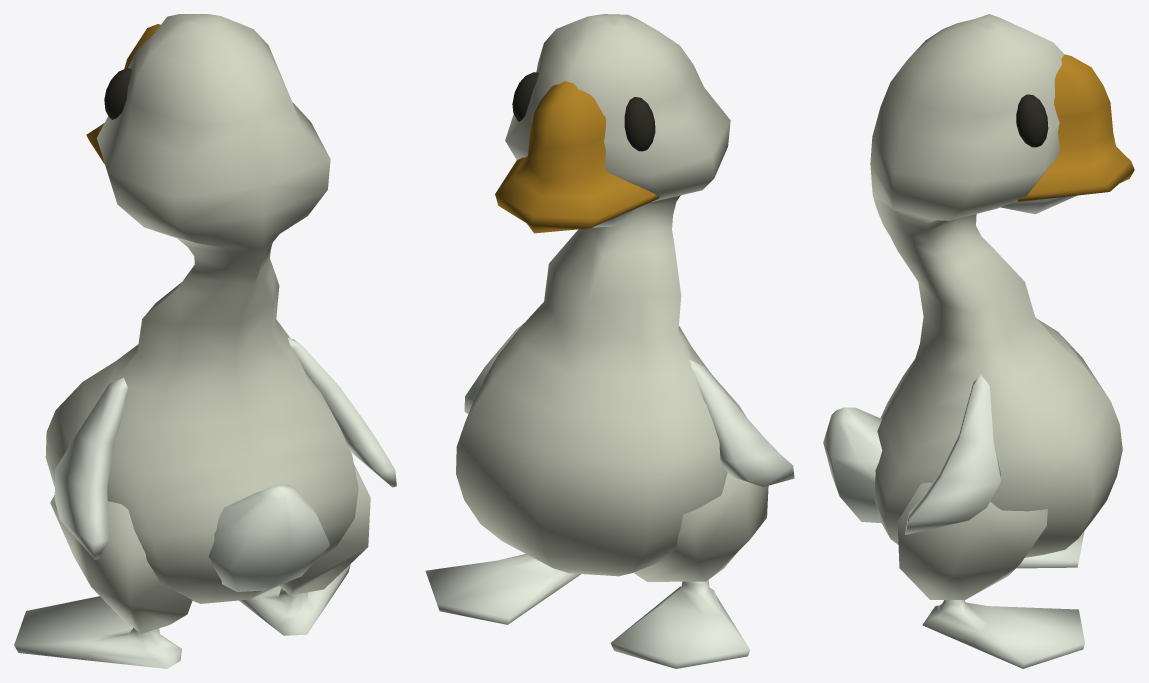
Rendered from GooseJonas.fbx.
3 renders of one model, left to right at view 1: azimuth 30°, elevation 25°; view 2: azimuth 150°, elevation 25°; view 3: azimuth 270°, elevation 25°, orthographic. The views are drawn at different scales.
Parts seen in each view (by area): view 1: Body, Tail, footL, WingL, WingR, FootR; view 2: Body, footL, FootR, WingL, WingR; view 3: Body, FootR, WingR, Tail, footL, Plane.011.
Boxes of the visible parts, x1=… form: Body: x1=45, y1=14, x2=370, y2=633; Tail: x1=208, y1=484, x2=329, y2=591; footL: x1=14, y1=596, x2=181, y2=668; WingL: x1=54, y1=377, x2=127, y2=559; WingR: x1=288, y1=337, x2=396, y2=487; FootR: x1=239, y1=564, x2=350, y2=635; Body: x1=456, y1=14, x2=768, y2=581; footL: x1=610, y1=580, x2=750, y2=668; FootR: x1=425, y1=554, x2=580, y2=624; WingL: x1=689, y1=359, x2=794, y2=486; WingR: x1=464, y1=323, x2=523, y2=413; Body: x1=870, y1=14, x2=1134, y2=599; FootR: x1=922, y1=600, x2=1084, y2=668; WingR: x1=905, y1=375, x2=1000, y2=534; Tail: x1=823, y1=407, x2=882, y2=523; footL: x1=1016, y1=531, x2=1084, y2=568; Plane.011: x1=1000, y1=195, x2=1076, y2=214.
Size of the model in its own units: 96.5 by 166 by 81.99.
